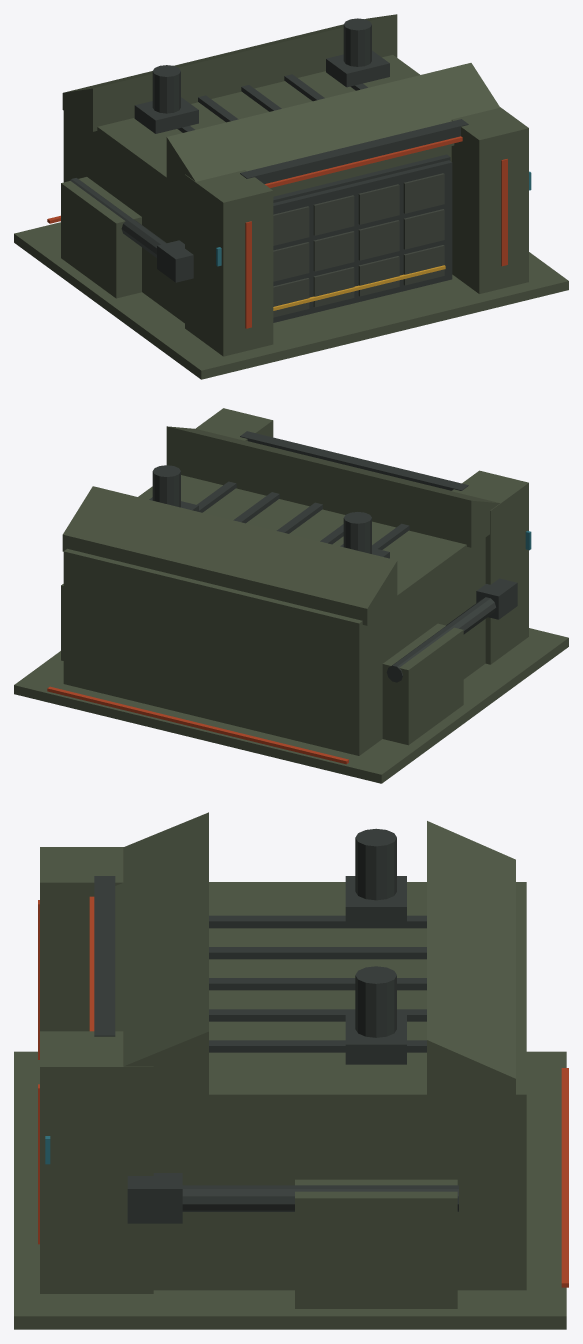
Rendered from Bastion_WarFactory_Static.obj.
The picture shows the model from 3 angles, top to bottom: view 1: azimuth 30°, elevation 25°; view 2: azimuth 150°, elevation 25°; view 3: azimuth 270°, elevation 25°; orthographic projection. The views are drawn at different scales.
Visible parts, largest first — view 1: Bastion_WarFactory_Static; view 2: Bastion_WarFactory_Static; view 3: Bastion_WarFactory_Static.
Boxes of the visible parts, <box> form: Bastion_WarFactory_Static: <box>14,14,568,379</box>; Bastion_WarFactory_Static: <box>14,408,568,783</box>; Bastion_WarFactory_Static: <box>14,812,568,1329</box>.
Size of the model in its own units: 10.2 by 5.23 by 9.04.
Materials: 1 (1 with a texture image).
